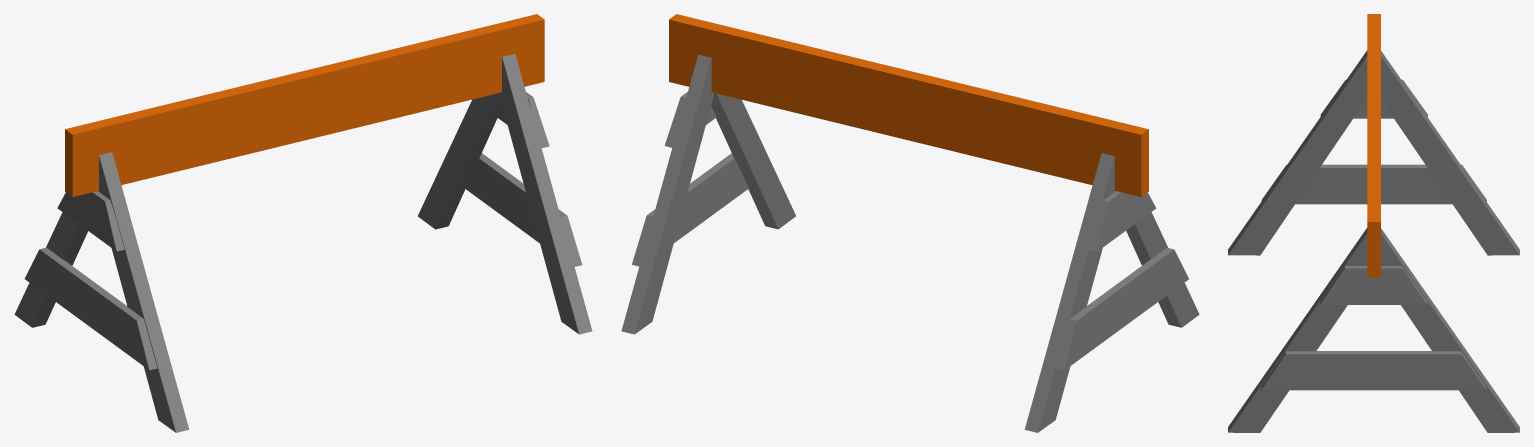
The model's file is WoodBarrier.fbx.
3 renders of one model, left to right at view 1: azimuth 30°, elevation 25°; view 2: azimuth 150°, elevation 25°; view 3: azimuth 270°, elevation 25°, orthographic. The views are drawn at different scales.
Visible parts, largest first — view 1: Cube; view 2: Cube; view 3: Cube.
Boxes of the visible parts, x1,y1,x2,y2 form: Cube: [14, 14, 592, 432]; Cube: [621, 14, 1199, 432]; Cube: [1228, 14, 1519, 432].
Bounding box in the file's own units: 626 × 315 × 372.
